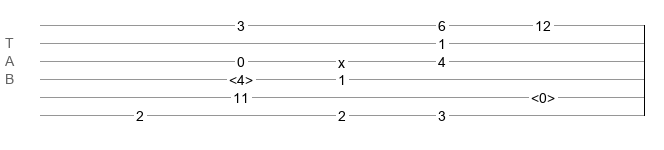0: (237, 54, 245, 64)
1: (338, 72, 346, 82), (438, 36, 446, 46)
11: (233, 90, 249, 100)
12: (535, 18, 551, 28)
2: (136, 108, 144, 118), (338, 108, 346, 118)
3: (237, 18, 245, 28), (438, 108, 446, 118)
4: (438, 54, 446, 64)
6: (438, 18, 446, 28)
harmonic: (229, 72, 253, 82), (531, 90, 555, 100)
x: (338, 55, 345, 63)
